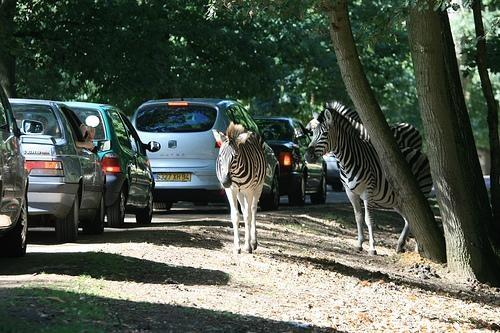car: (130, 95, 282, 214), (8, 98, 110, 242), (61, 101, 162, 229), (255, 118, 328, 207), (0, 85, 31, 270)
